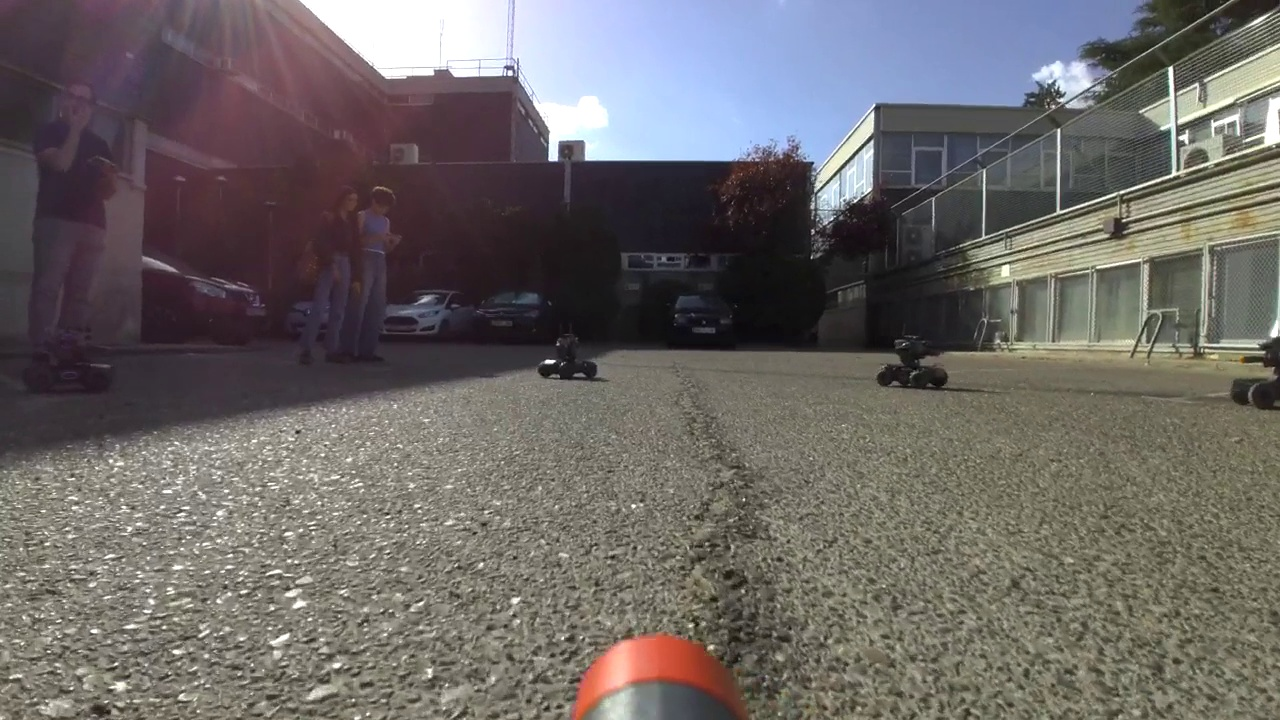robot: (22, 321, 116, 397), (876, 330, 949, 389), (538, 318, 598, 380), (1230, 333, 1280, 406)
